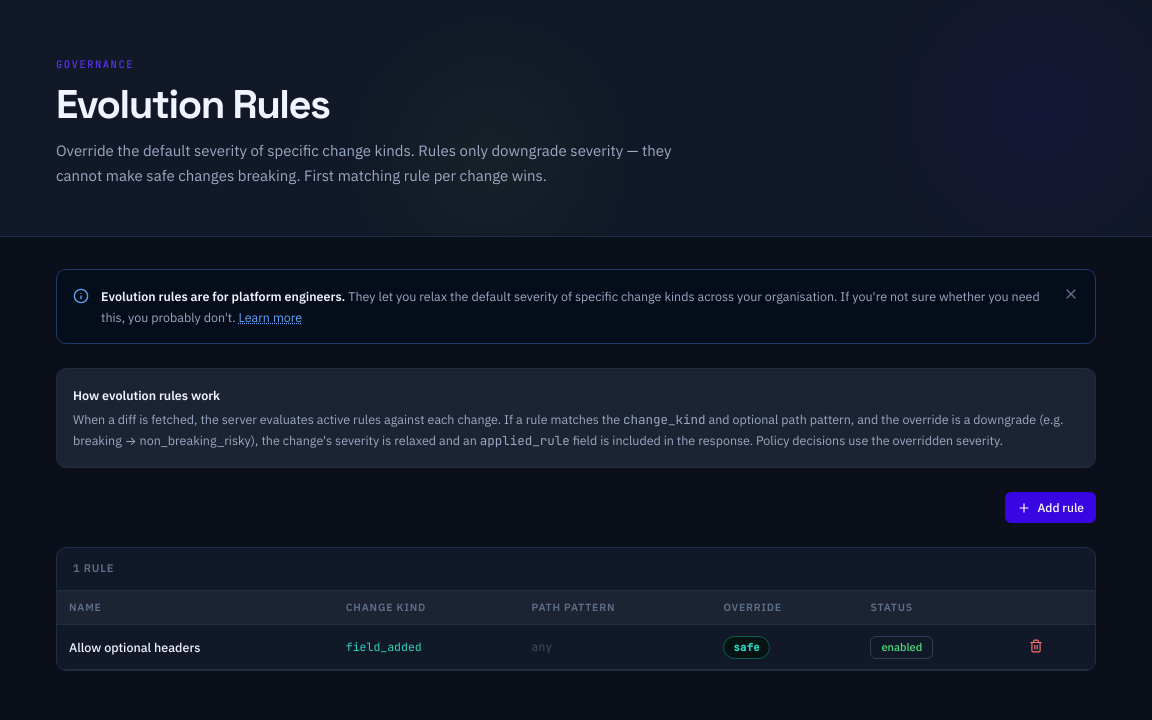
Test: EvolutionRulesPage destructive-action safety › surfaces a delete failure instead of silently re-enabling the button
Step 1. Click the button named "Delete rule" → coordinates (1036, 646), box [1025, 635, 1047, 657]
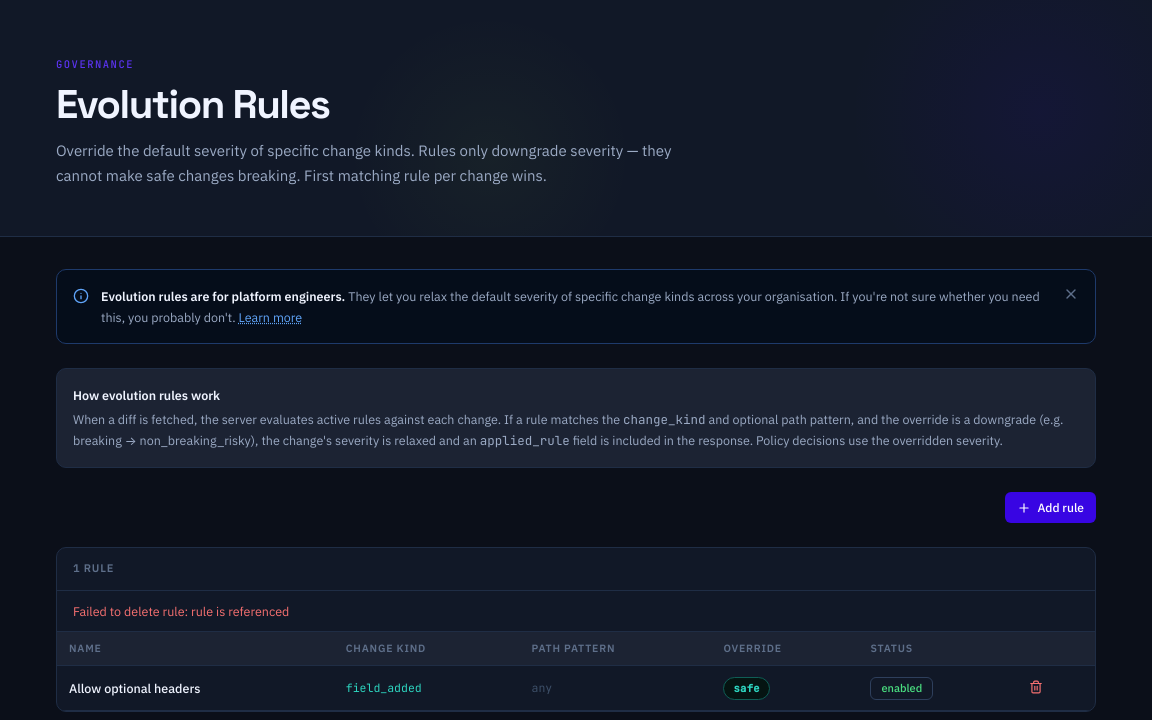
Expected: the text "Failed to delete rule: rule is referenced" is shown, [57, 591, 1095, 632]
